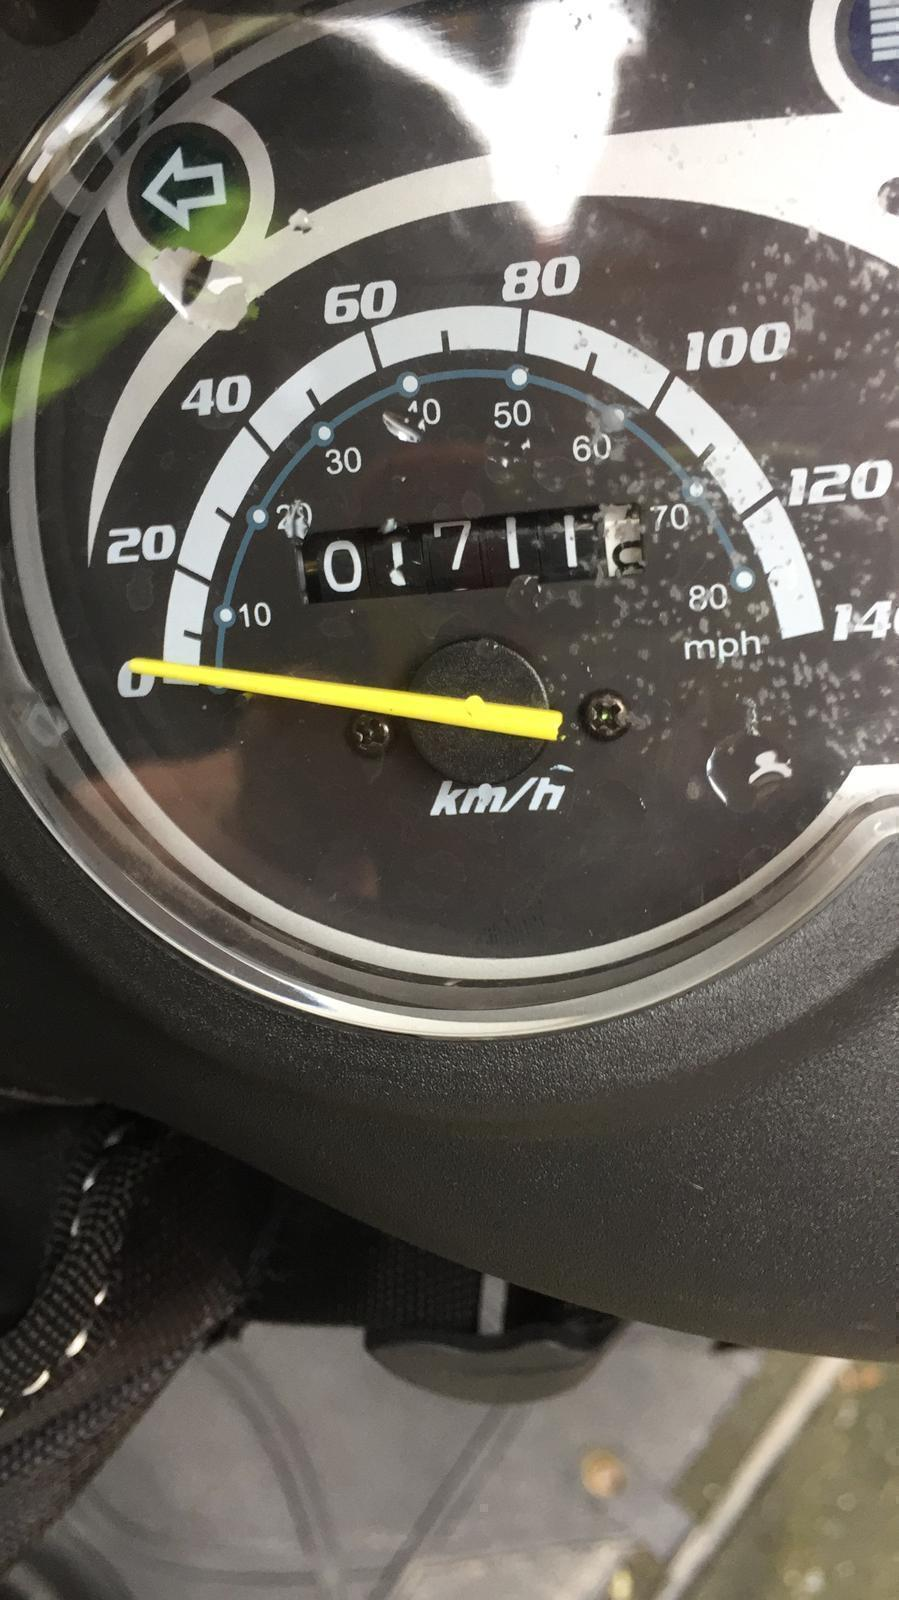0: (320, 533, 364, 595), (295, 501, 315, 530)
1: (556, 509, 589, 576), (499, 513, 525, 581), (387, 527, 410, 587)
7: (428, 515, 475, 580)
8: (614, 537, 647, 587)
odometer: (291, 499, 651, 602)
